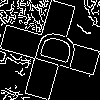D: (25, 25, 79, 72)
